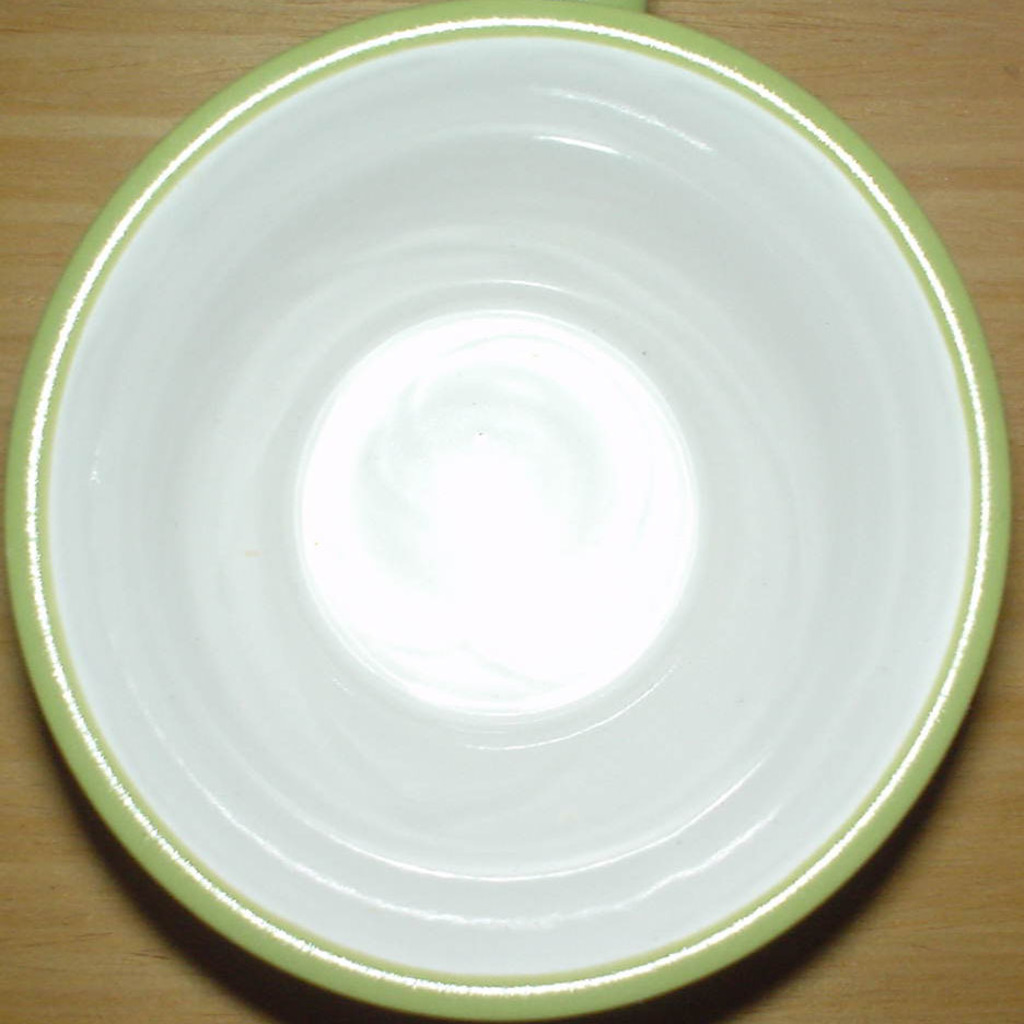plate: (6, 0, 1011, 1023)
